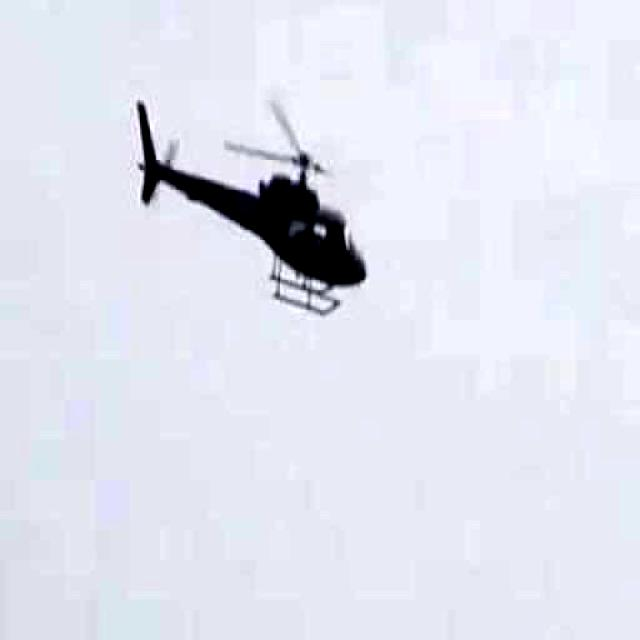drone: (132, 65, 371, 369)
